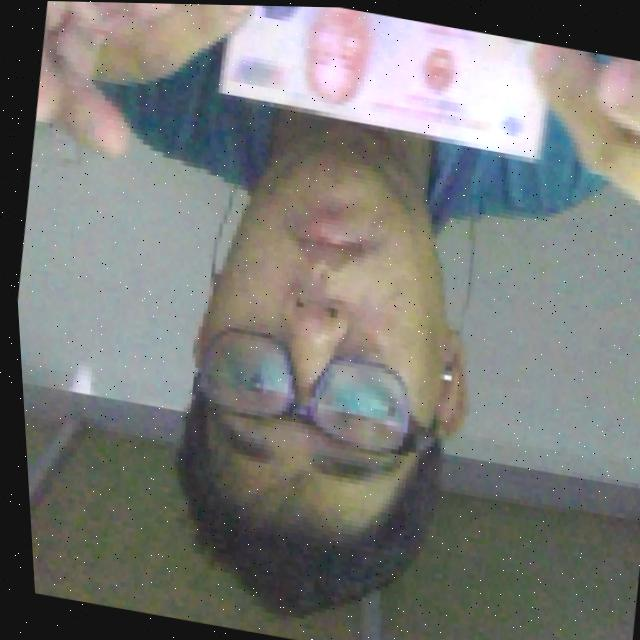200 000 VND: (202, 4, 570, 172)
